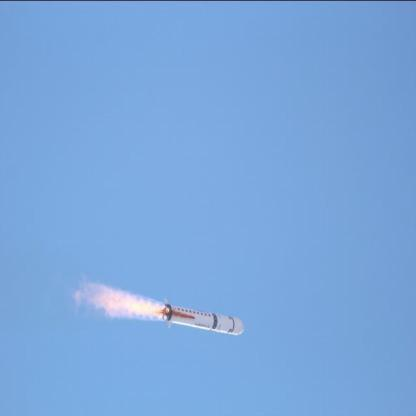MIL_TBM: (161, 300, 247, 336)
